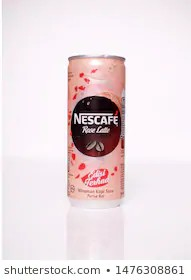nescafe-can: (63, 55, 129, 205)
